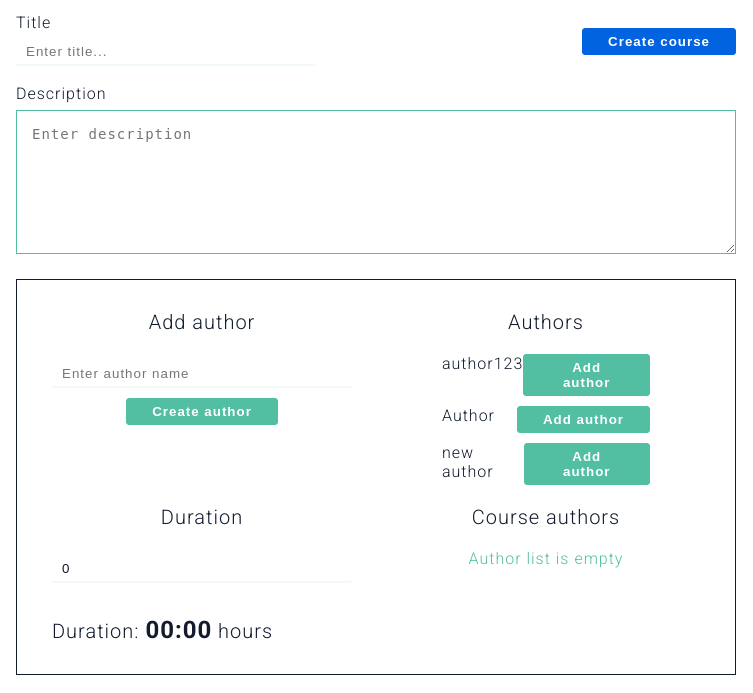
Test: course form comp › course form comp with /add route › description errors should be rendered on focus out in case of invalid data
In the text box labelled "Description": (376, 182) [16, 110, 736, 254], type "t"
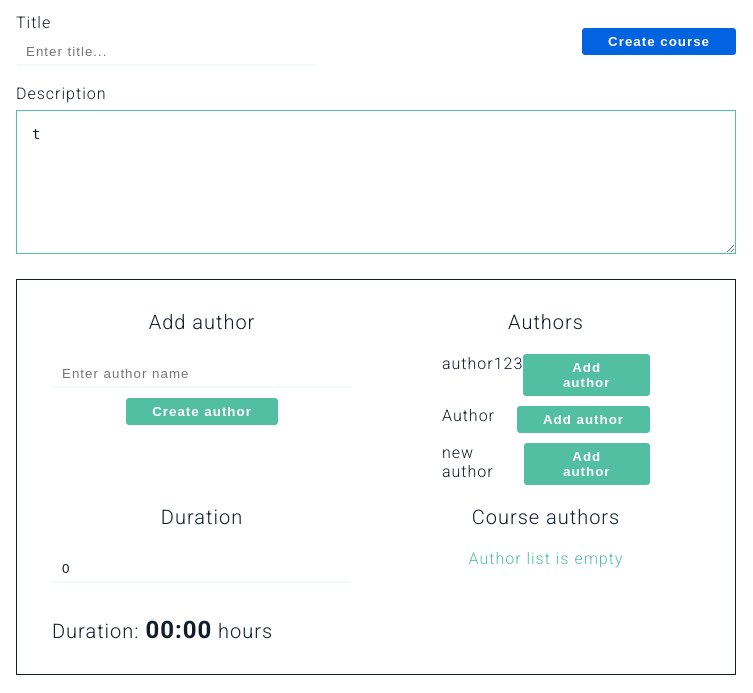
Leave the text box labelled "Description", box [16, 110, 736, 254]
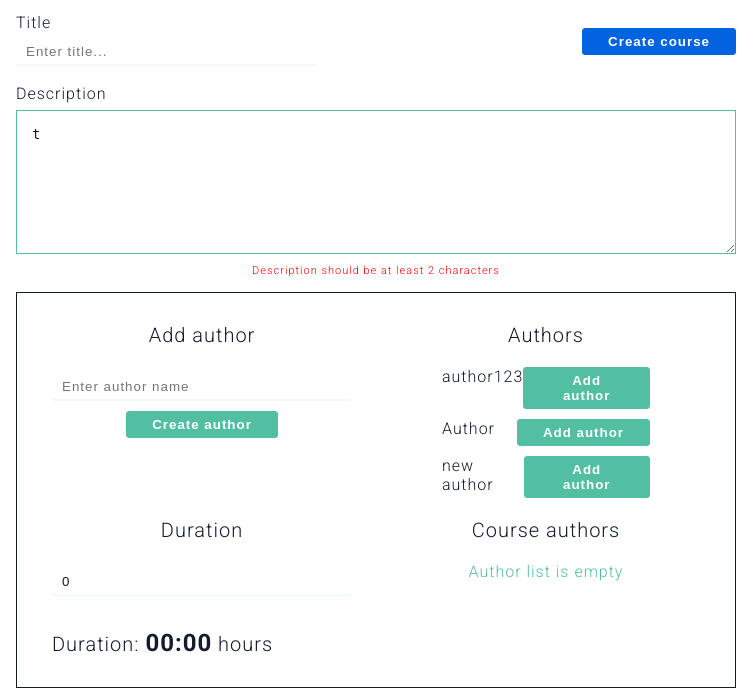
Check: the text "Description should be at least 2 characters" is shown, box [252, 264, 500, 277]
